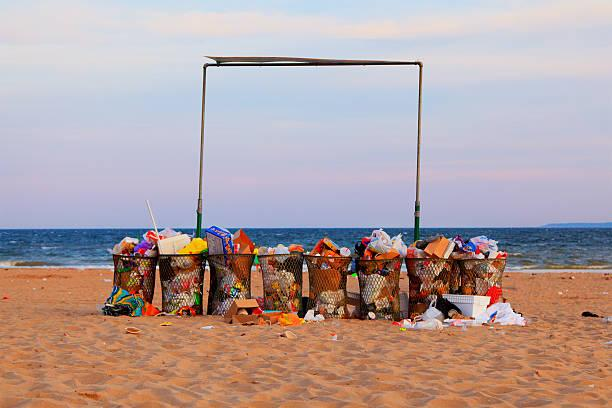trash: (433, 289, 527, 328), (220, 299, 290, 330), (440, 288, 490, 327), (111, 227, 157, 263), (97, 288, 154, 317), (156, 226, 204, 259), (411, 295, 453, 331), (450, 230, 498, 261), (401, 235, 458, 260), (211, 229, 251, 256), (156, 304, 203, 324), (365, 236, 404, 260), (137, 291, 169, 319), (311, 238, 349, 260), (301, 306, 329, 327), (277, 306, 301, 330), (266, 243, 295, 259)
trash_can_overflow: (246, 234, 317, 334), (152, 211, 204, 330), (359, 225, 410, 330), (106, 227, 160, 324), (457, 225, 509, 323), (310, 229, 355, 332), (410, 229, 457, 323), (212, 226, 252, 326)
